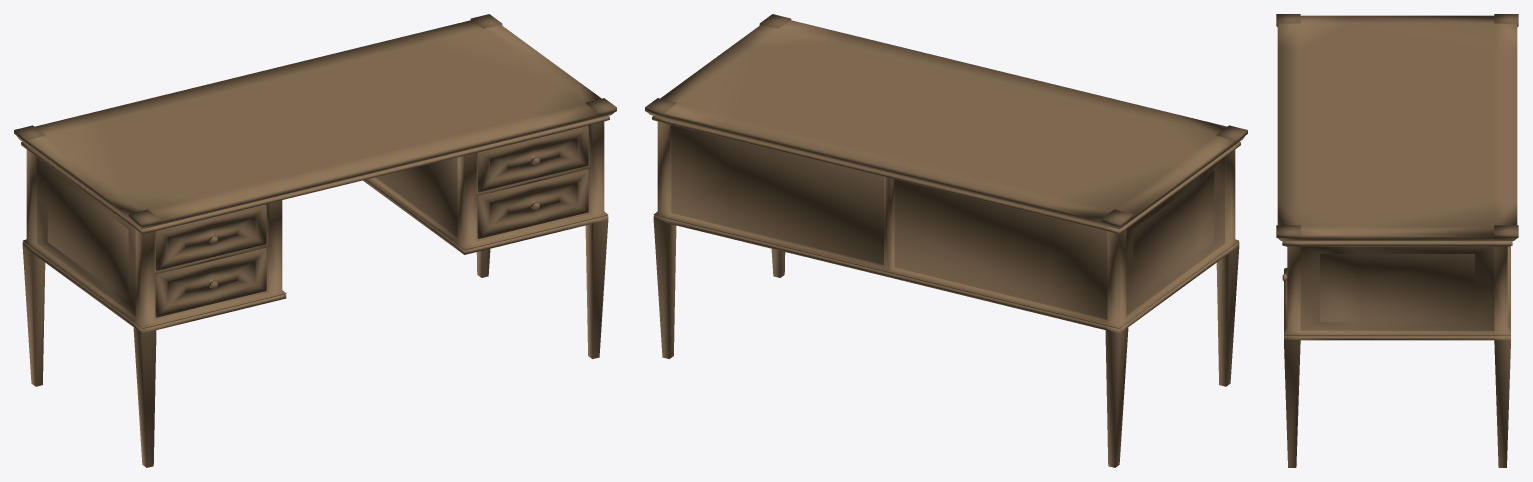
File: Desk_smooth.glb
3 views of the same model, side by side, from view 1: azimuth 30°, elevation 25°; view 2: azimuth 150°, elevation 25°; view 3: azimuth 270°, elevation 25° (orthographic). The views are drawn at different scales.
Visible parts, largest first — view 1: Desk, Desk_Drawer4, Desk_Drawer2, Desk_Drawer3, Desk_Drawer1; view 2: Desk; view 3: Desk.
Part boxes in pixels (left/top/right/bottom): Desk: left=14, top=14, right=616, bottom=467; Desk_Drawer4: left=155, top=248, right=266, bottom=317; Desk_Drawer2: left=477, top=169, right=588, bottom=238; Desk_Drawer3: left=155, top=204, right=266, bottom=270; Desk_Drawer1: left=477, top=126, right=588, bottom=192; Desk: left=645, top=14, right=1247, bottom=467; Desk: left=1276, top=14, right=1518, bottom=467.
Size of the model in its own units: 1.82 by 0.9225 by 0.8466.
